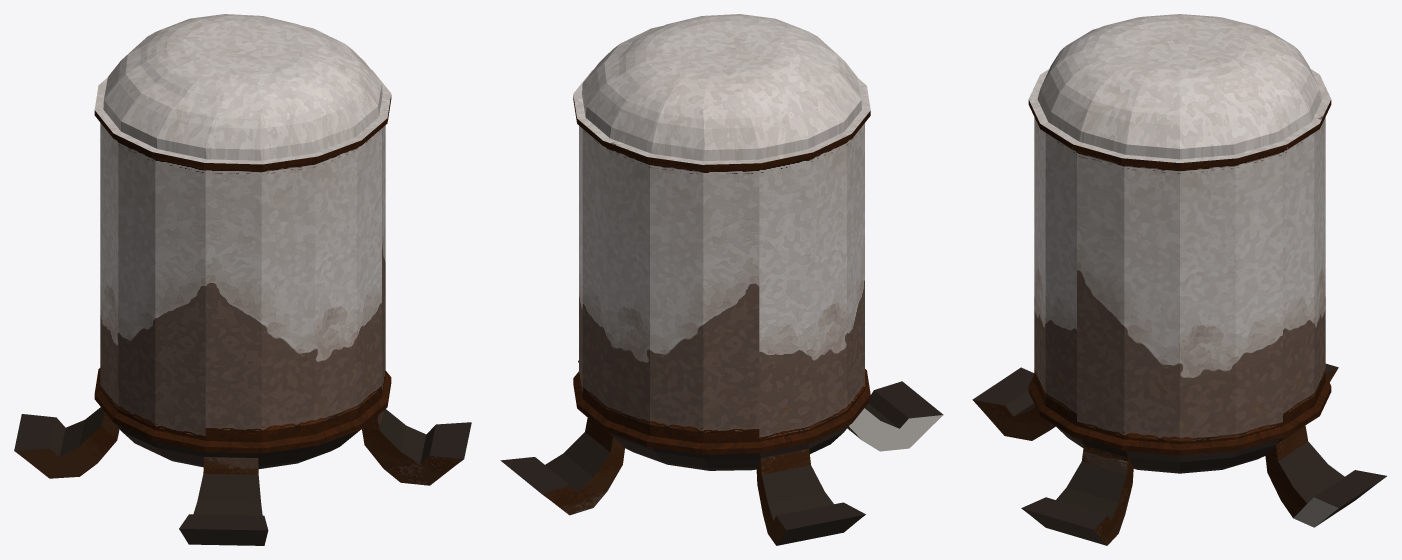
The model's file is tank1.fbx.
3 views of the same model, side by side, from view 1: azimuth 30°, elevation 25°; view 2: azimuth 150°, elevation 25°; view 3: azimuth 270°, elevation 25° (orthographic).
Visible parts, largest first — view 1: Cylinder.004; view 2: Cylinder.004; view 3: Cylinder.004.
Part boxes in pixels (x1=…): Cylinder.004: x1=14, y1=14, x2=471, y2=545; Cylinder.004: x1=500, y1=14, x2=943, y2=545; Cylinder.004: x1=972, y1=14, x2=1386, y2=545.
Bounding box in the file's own units: 907 × 972 × 865.
Materials: 1 (1 with a texture image).
